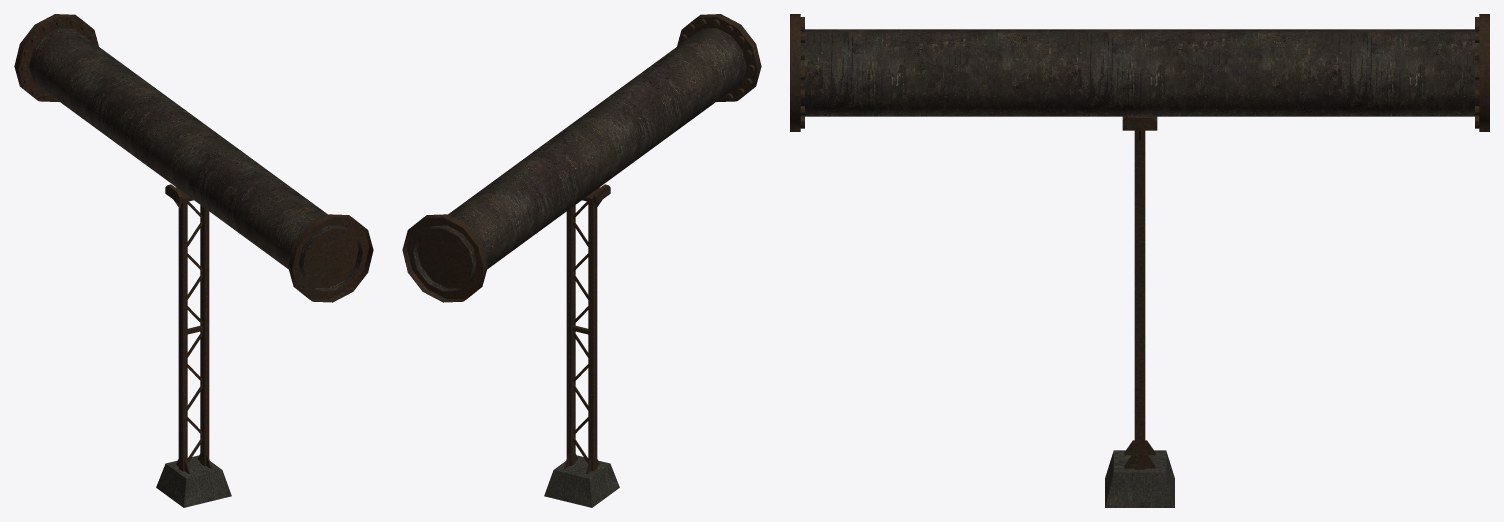
Rendered from pipe_cx_1.glb.
3 views of the same model, side by side, from view 1: azimuth 30°, elevation 25°; view 2: azimuth 150°, elevation 25°; view 3: azimuth 270°, elevation 25° (orthographic). The views are drawn at different scales.
Visible parts, largest first — view 1: pipe_cx_1; view 2: pipe_cx_1; view 3: pipe_cx_1.
Part boxes in pixels (x1,y1,x2,y2): pipe_cx_1: [14, 14, 373, 507]; pipe_cx_1: [402, 14, 761, 507]; pipe_cx_1: [790, 14, 1489, 507].
Bounding box in the file's own units: 0.676 × 2.99 × 4.
Materials: 3 (3 with a texture image).
